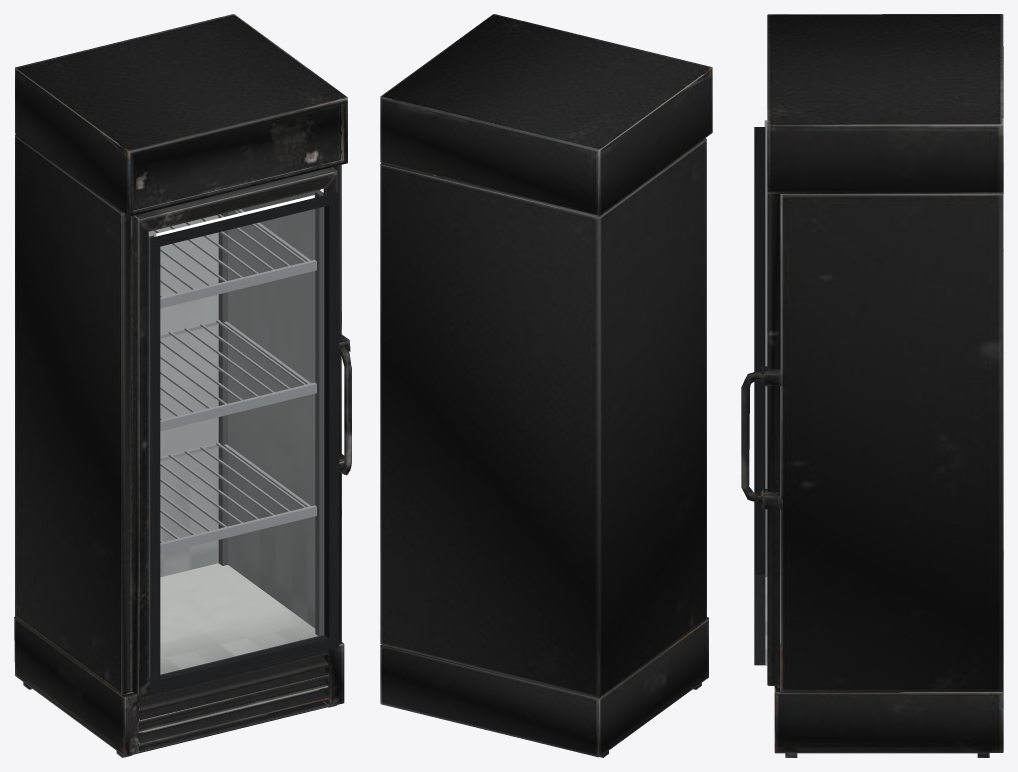
The model's file is shop-cooler-open-t25.glb.
The picture shows the model from 3 angles, left to right: view 1: azimuth 30°, elevation 25°; view 2: azimuth 150°, elevation 25°; view 3: azimuth 270°, elevation 25°; orthographic projection. The views are drawn at different scales.
Parts seen in each view (by area): view 1: body, interior; view 2: body; view 3: body, interior.
Part boxes in pixels (<box>): body: <box>14,14,351,757</box>; interior: <box>145,190,339,693</box>; body: <box>380,14,712,757</box>; body: <box>741,14,1003,757</box>; interior: <box>754,120,767,665</box>.
Bounding box in the file's own units: 0.75 × 2 × 0.75.
3 materials, 2 textured.
